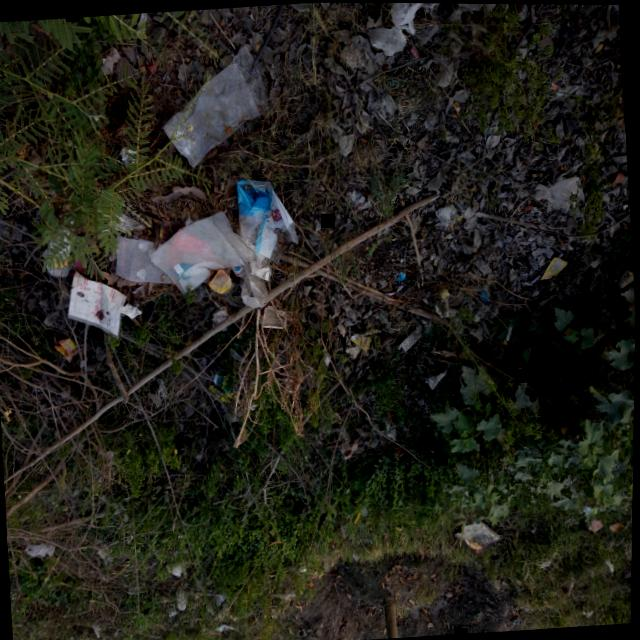Normal paper: (68, 270, 127, 339)
Other plastic: (55, 338, 79, 364), (543, 255, 569, 279), (347, 189, 372, 212), (351, 332, 373, 352), (385, 284, 404, 296), (397, 271, 407, 280), (440, 287, 448, 298)
Other plastic cup: (263, 305, 288, 328)
Plastic film: (162, 43, 269, 167), (148, 210, 257, 294), (237, 178, 299, 263), (117, 236, 174, 283), (391, 2, 437, 34), (545, 176, 585, 208), (43, 233, 72, 276), (241, 261, 267, 307), (250, 254, 272, 281), (116, 210, 144, 230), (209, 269, 232, 292), (26, 544, 57, 557), (231, 266, 248, 278)
Plastic lid: (361, 504, 368, 515)
Plastic straw: (531, 251, 565, 283), (356, 508, 364, 523)
Styrofoam piece: (340, 40, 369, 68), (401, 324, 424, 352), (426, 368, 449, 389), (436, 291, 451, 317), (213, 304, 229, 326)
Unlabeled litter: (457, 519, 504, 554), (122, 302, 144, 319), (120, 146, 136, 163), (218, 314, 230, 332), (215, 370, 226, 386), (409, 45, 420, 58), (482, 287, 491, 301)
